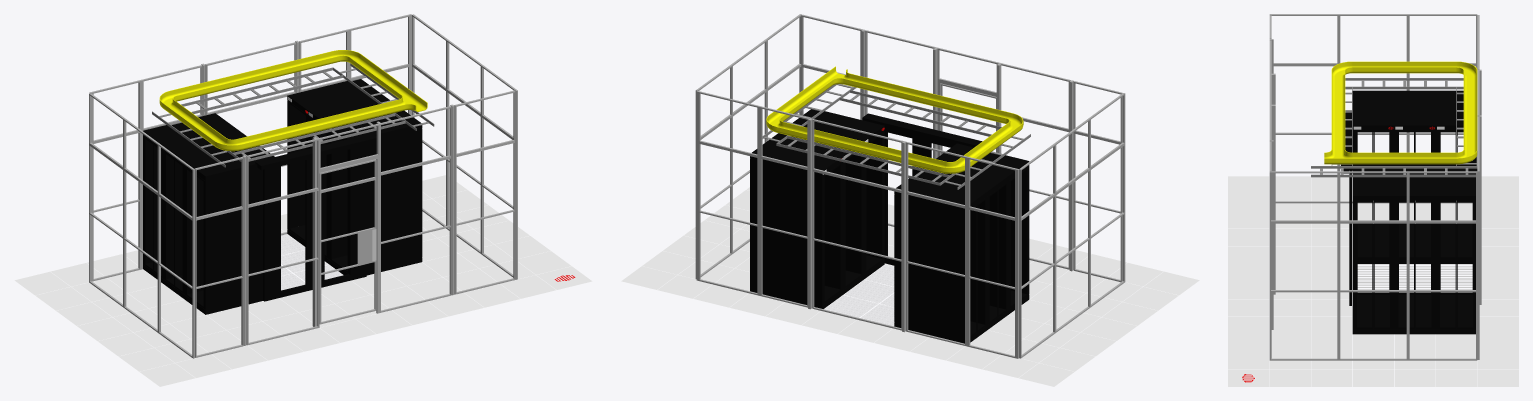
Rendered from cage.glb.
3 views of the same model, side by side, from view 1: azimuth 30°, elevation 25°; view 2: azimuth 150°, elevation 25°; view 3: azimuth 270°, elevation 25° (orthographic).
Visible parts, largest first — view 1: instance_27, instance_31, group_55.001, group_54, instance_107, instance_47, instance_26, instance_29, group_40, instance_36, instance_35, group_37 (+99 smaller); view 2: instance_36, instance_35, instance_33, instance_45, instance_40, instance_37, instance_31, group_42, group_40, group_39, instance_27, group_35 (+81 smaller); view 3: group_37, group_47, group_41, group_38, group_39, group_45, group_43, group_36, group_40, group_44, group_46, group_42 (+109 smaller).
Part boxes in pixels (x1,y1,x2,y2): instance_27: (206, 168, 262, 309); instance_31: (366, 128, 421, 270); group_55.001: (263, 157, 312, 301); group_54: (320, 144, 366, 287); instance_107: (319, 159, 376, 324); instance_47: (166, 154, 182, 278); instance_26: (187, 170, 203, 293); instance_29: (332, 136, 347, 258); group_40: (287, 79, 379, 114); instance_36: (145, 139, 161, 263); instance_35: (290, 104, 305, 228); group_37: (184, 146, 274, 180); instance_36: (894, 194, 964, 339); instance_35: (750, 159, 821, 305); instance_33: (824, 165, 840, 289); instance_45: (989, 185, 1005, 309); instance_40: (845, 152, 861, 273); instance_37: (970, 200, 985, 324); instance_31: (866, 134, 881, 258); group_42: (894, 174, 987, 210); group_40: (750, 140, 842, 175); group_39: (793, 109, 884, 142); instance_27: (1010, 169, 1026, 294); group_35: (862, 113, 982, 147); group_37: (1352, 90, 1394, 130); group_47: (1394, 90, 1435, 130); group_41: (1436, 294, 1475, 334); group_38: (1352, 294, 1394, 334); group_39: (1352, 164, 1394, 200); group_45: (1394, 294, 1435, 334); group_43: (1440, 224, 1472, 263); group_36: (1357, 224, 1389, 263); group_40: (1436, 161, 1477, 200); group_44: (1394, 164, 1435, 200); group_46: (1399, 224, 1430, 263); group_42: (1436, 90, 1463, 130).
Size of the model in its own units: 7.19 by 3 by 4.19.
